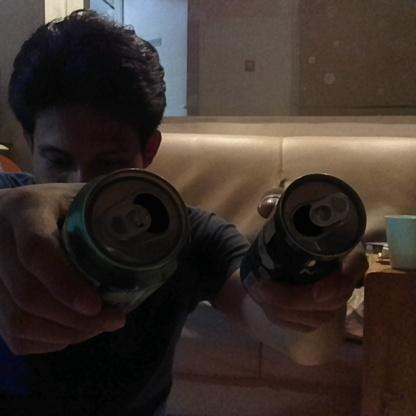alumunium_can: (55, 167, 190, 316), (238, 169, 370, 307)
